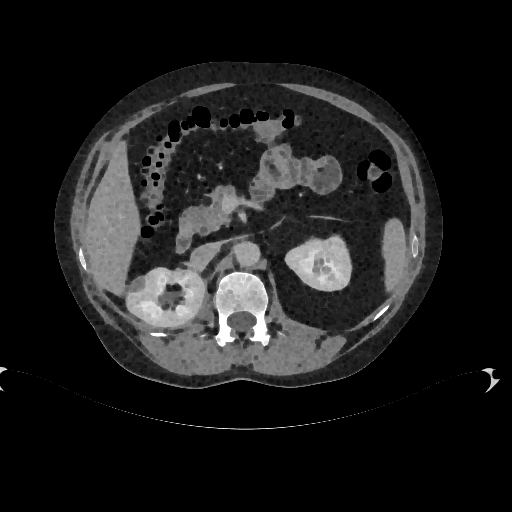Lesion: (125, 276, 147, 292)
